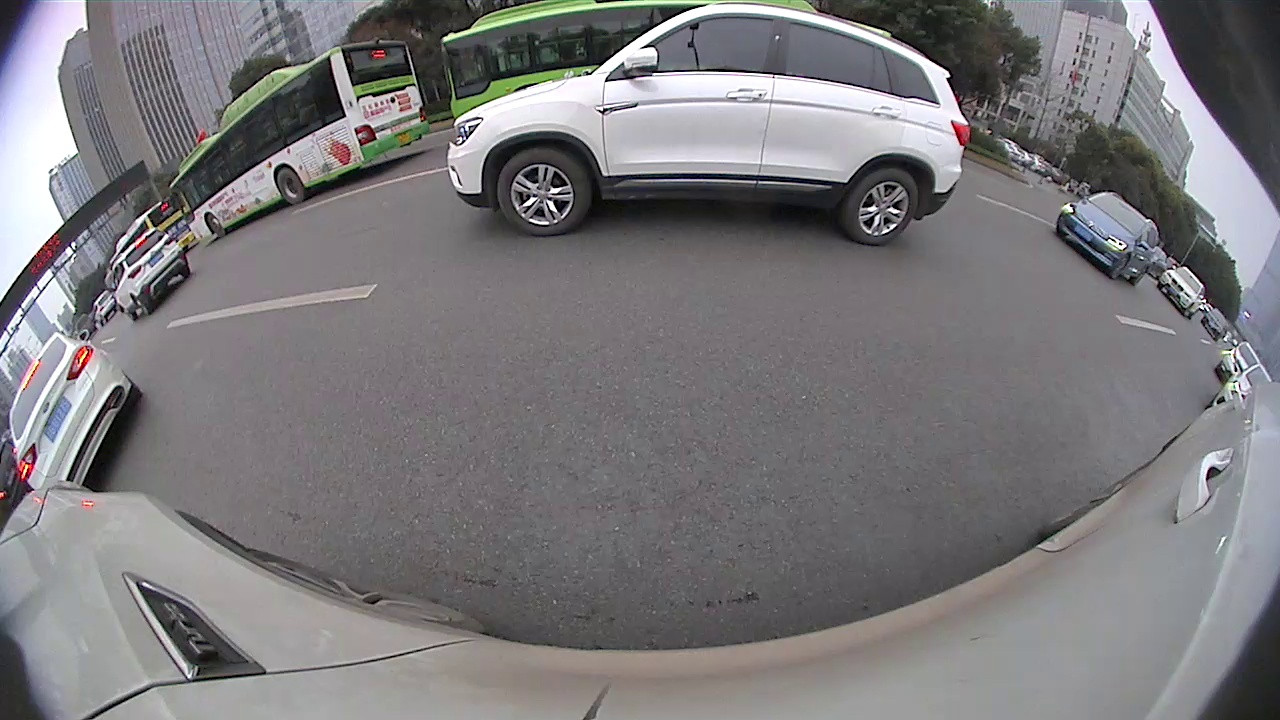bus: (165, 34, 430, 251), (437, 4, 901, 122)
car: (442, 1, 971, 247), (5, 326, 145, 491), (1055, 186, 1157, 285), (109, 226, 192, 324)
front: (493, 148, 594, 238), (203, 212, 226, 238)
rear: (842, 166, 921, 244), (275, 168, 307, 206)
